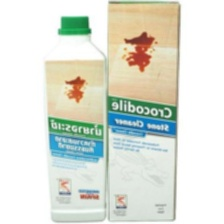book: (104, 1, 182, 224)
cleaning_solution: (37, 10, 108, 224)
